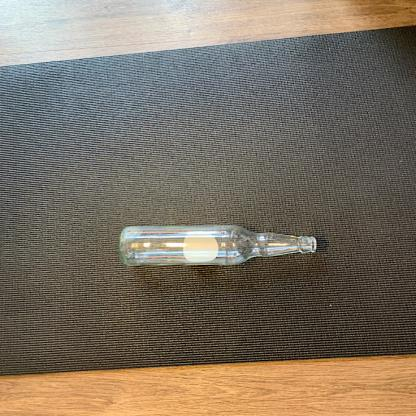trash: (120, 222, 318, 270)
